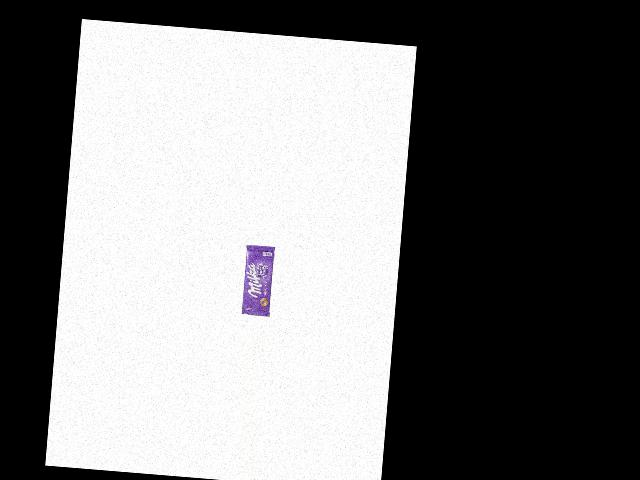chocolate: (239, 240, 279, 317)
